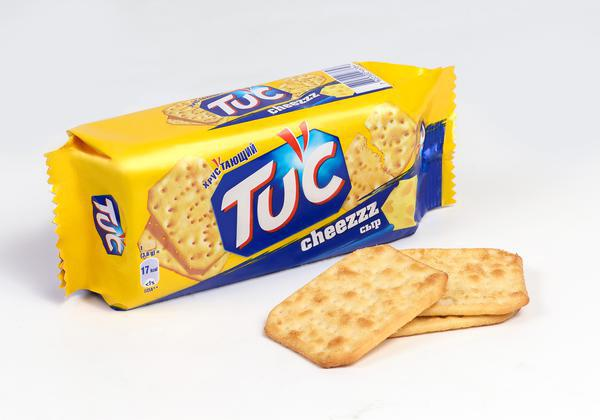crackers tuc: (57, 45, 454, 314)
